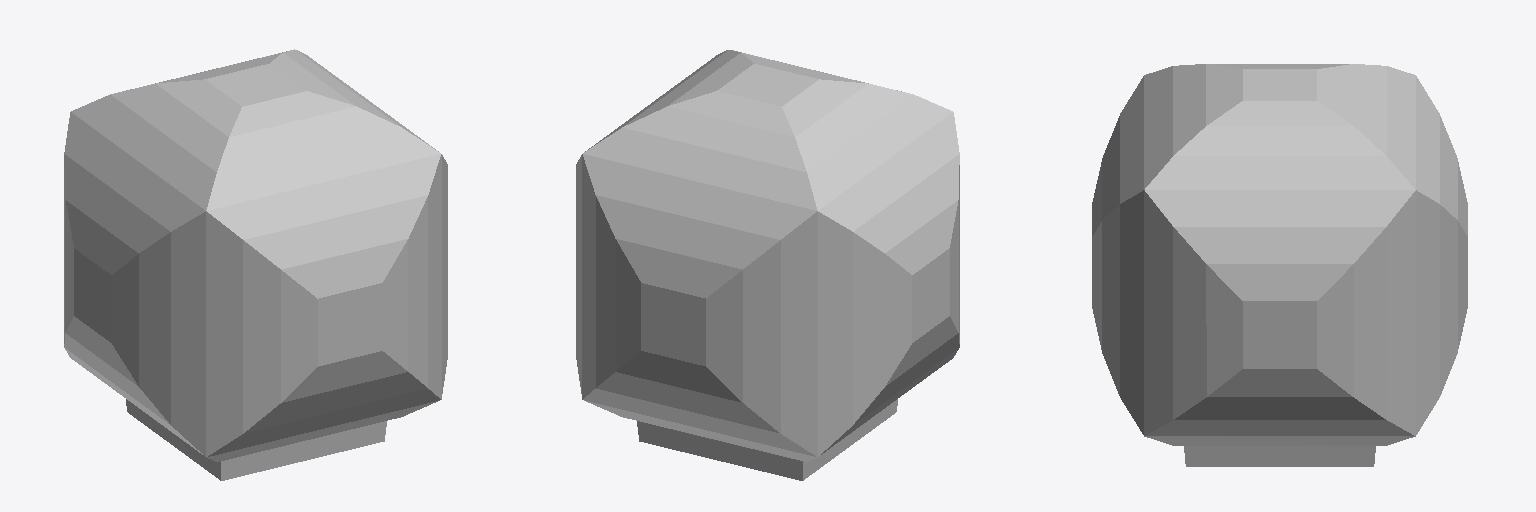
The model's file is technic_reactor.obj.
3 renders of one model, left to right at view 1: azimuth 30°, elevation 25°; view 2: azimuth 150°, elevation 25°; view 3: azimuth 270°, elevation 25°, orthographic.
Parts seen in each view (by area): view 1: Cube.002; view 2: Cube.002; view 3: Cube.002.
Boxes of the visible parts, box(x1,y1,x2,y2) form: Cube.002: box(64, 49, 447, 480); Cube.002: box(576, 50, 959, 480); Cube.002: box(1092, 64, 1467, 466).
Size of the model in its own units: 0.999 by 1 by 0.999.